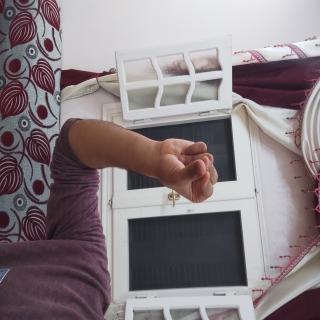QAAF: (102, 132, 162, 234)
